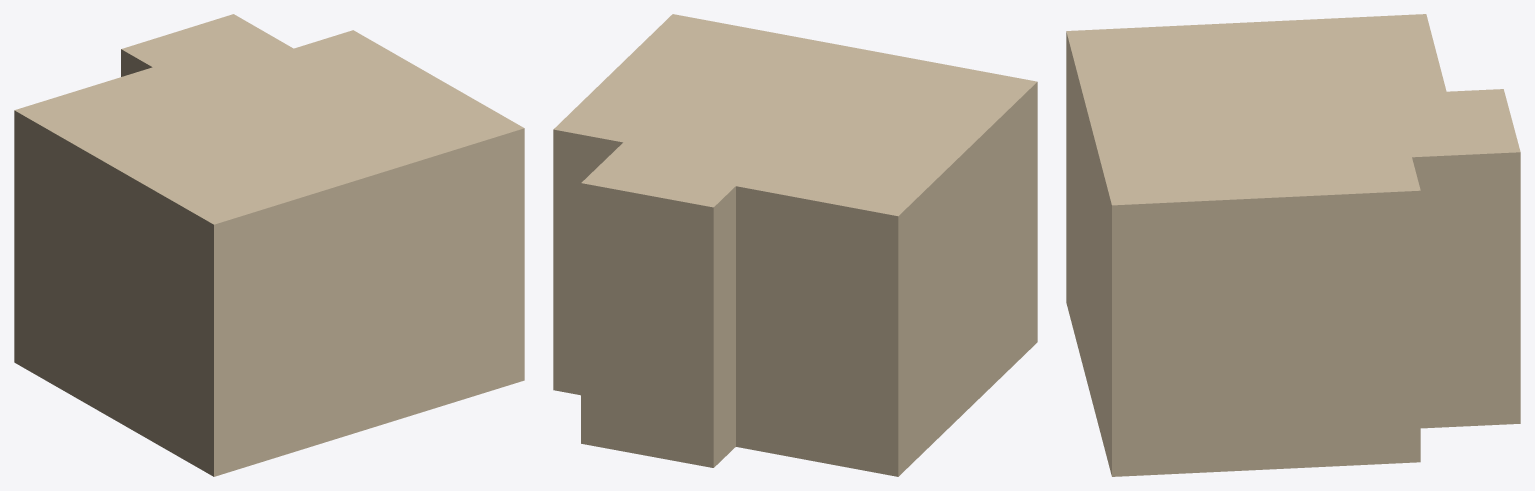
3 views of the same model, side by side, from view 1: azimuth 30°, elevation 25°; view 2: azimuth 150°, elevation 25°; view 3: azimuth 270°, elevation 25° (orthographic). The views are drawn at different scales.
Visible parts, largest first — view 1: SM_0316be244f6fb56af3f7; view 2: SM_0316be244f6fb56af3f7; view 3: SM_0316be244f6fb56af3f7.
Boxes of the visible parts, x1,y1,x2,y2 form: SM_0316be244f6fb56af3f7: [14, 14, 524, 476]; SM_0316be244f6fb56af3f7: [553, 14, 1037, 476]; SM_0316be244f6fb56af3f7: [1066, 14, 1520, 476].
Size of the model in its own units: 13.6 by 13.65 by 9.
